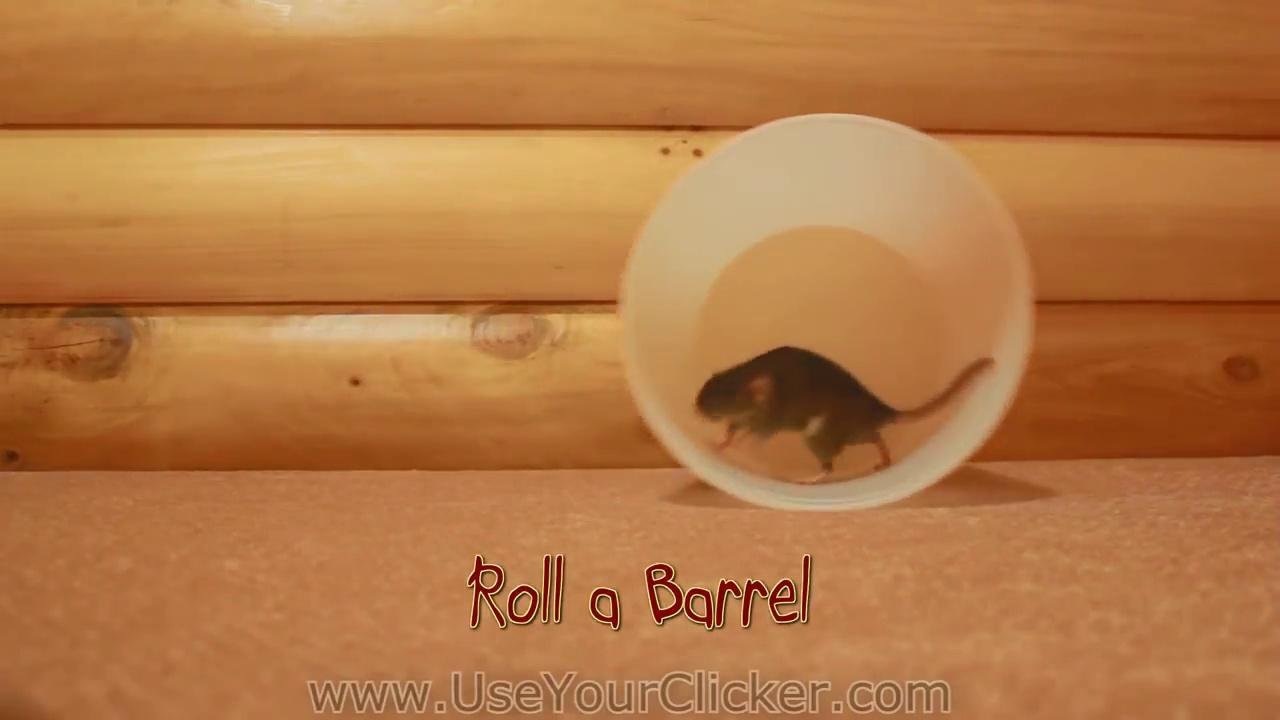rat: (690, 346, 999, 486)
